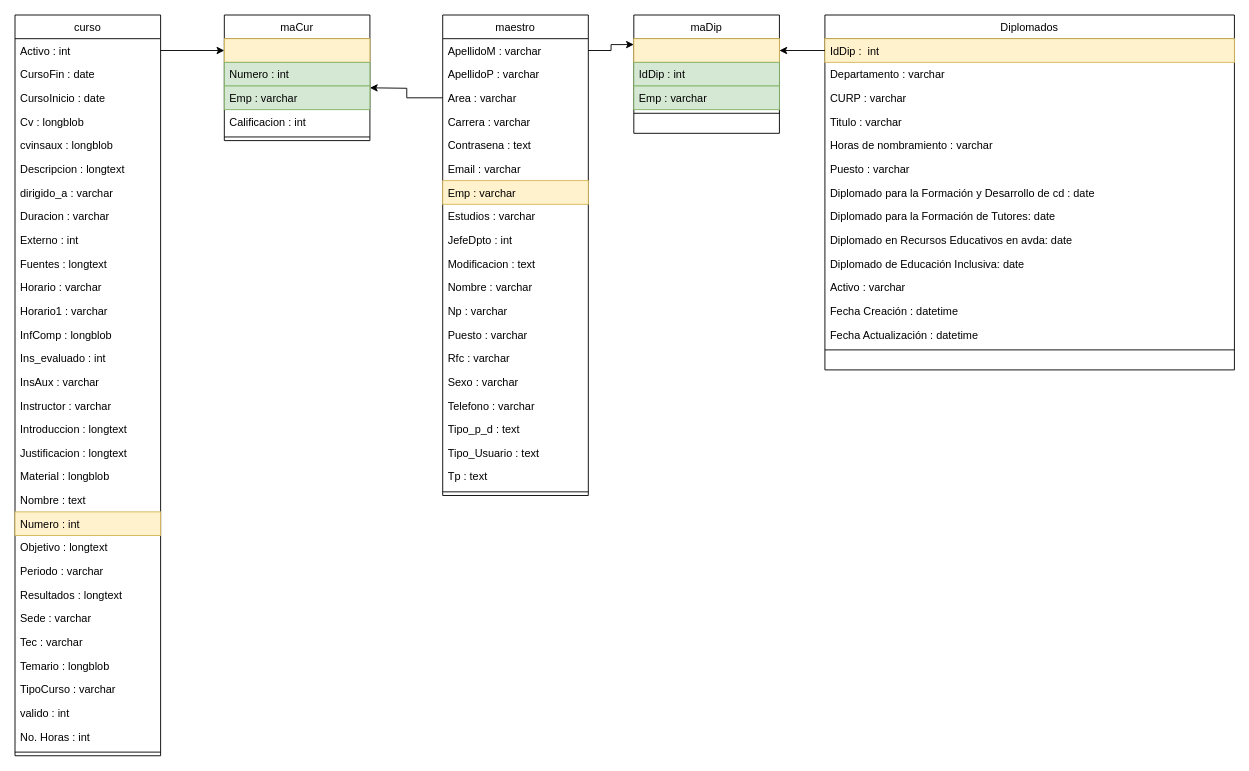
The diagram is 1249 pixels wide and 771 high, and some of its shapes have lost their labels. The centre of each missing label's shape, as x and y in pixels:
IDmaCur : int: (296,50)
IDmaDip : int: (706,50)
